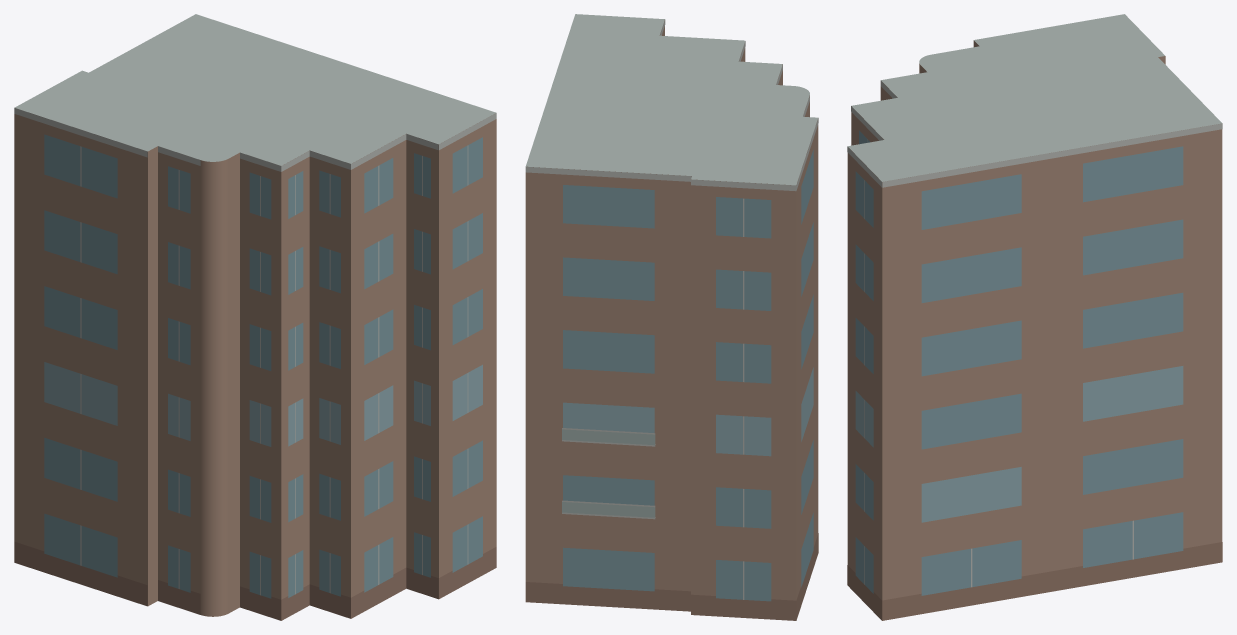
Rendered from survey-upis-32971157.glb.
3 renders of one model, left to right at view 1: azimuth 30°, elevation 25°; view 2: azimuth 150°, elevation 25°; view 3: azimuth 270°, elevation 25°, orthographic. The views are drawn at different scales.
Visible parts, largest first — view 1: survey-upis-32971157.tmp; view 2: survey-upis-32971157.tmp; view 3: survey-upis-32971157.tmp.
Part boxes in pixels (<box>): survey-upis-32971157.tmp: <box>14,14,496,620</box>; survey-upis-32971157.tmp: <box>525,14,818,620</box>; survey-upis-32971157.tmp: <box>847,14,1222,620</box>.
Size of the model in its own units: 15.02 by 18.3 by 14.18.
